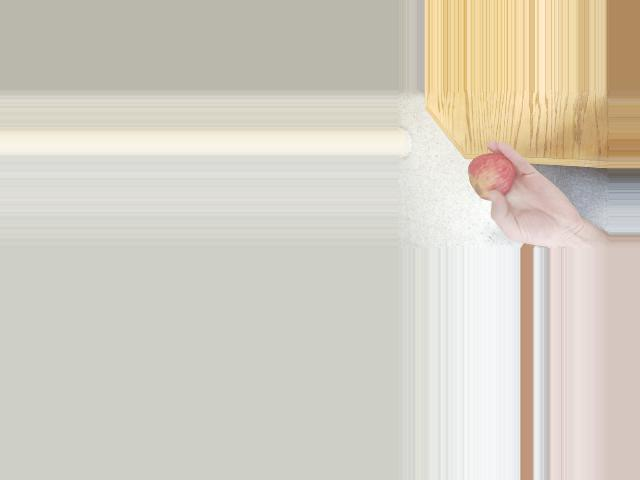apple: (465, 151, 518, 199)
